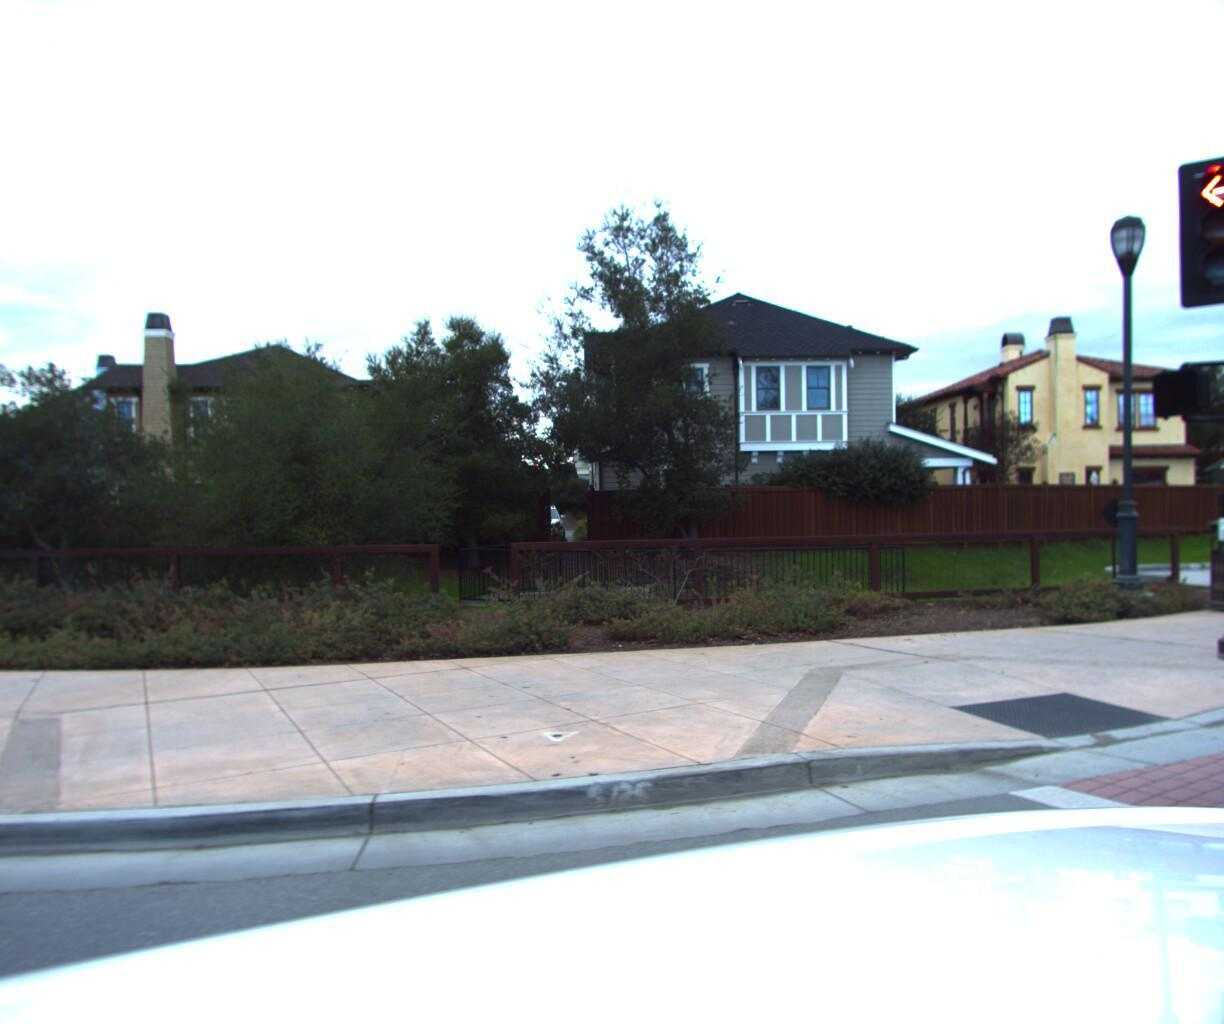car: (511, 502, 574, 546)
